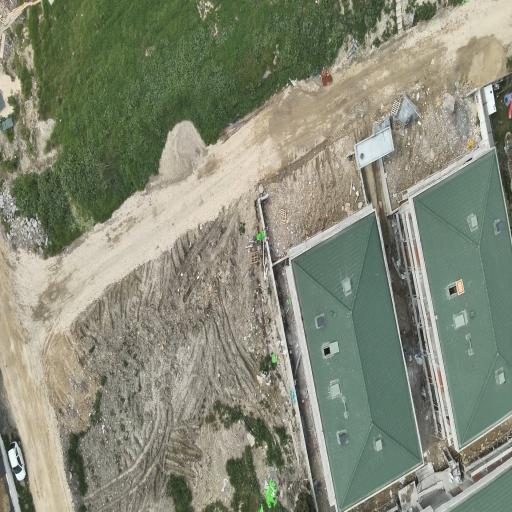car: (7, 440, 25, 479)
